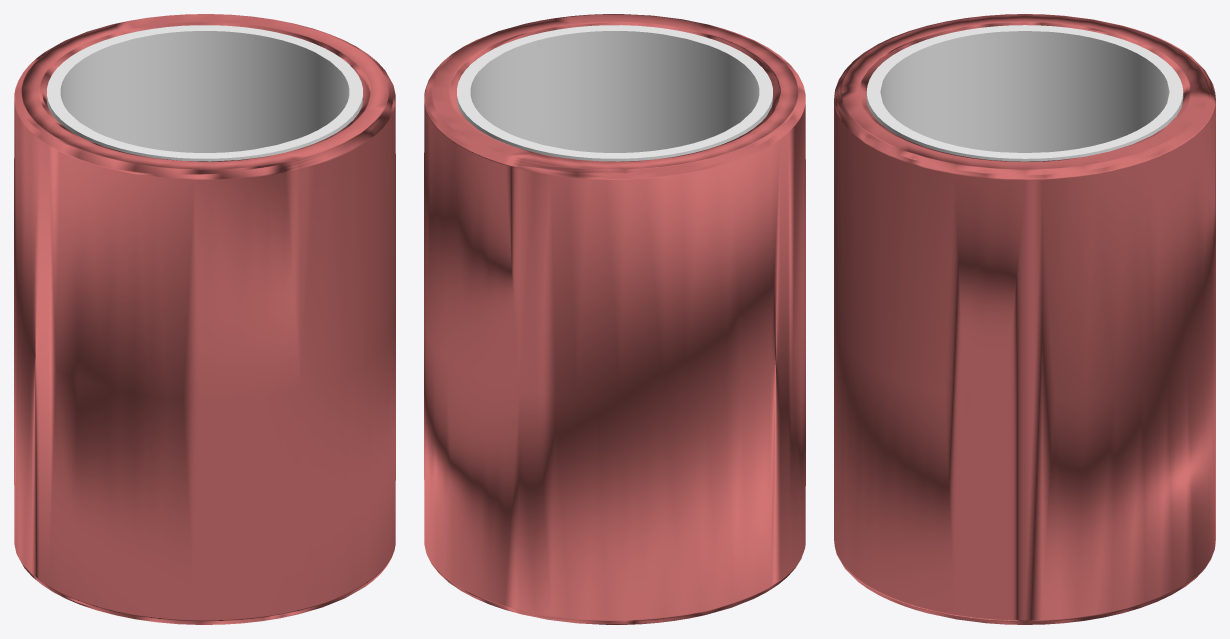
3 renders of one model, left to right at view 1: azimuth 30°, elevation 25°; view 2: azimuth 150°, elevation 25°; view 3: azimuth 270°, elevation 25°, orthographic.
Visible parts, largest first — view 1: Mid_cyl_M_out, Mid_cyl_M_in; view 2: Mid_cyl_M_out, Mid_cyl_M_in; view 3: Mid_cyl_M_out, Mid_cyl_M_in.
Boxes of the visible parts, box(x1,y1,x2,y2) form: Mid_cyl_M_out: box(14, 14, 395, 624); Mid_cyl_M_in: box(47, 25, 362, 161); Mid_cyl_M_out: box(424, 14, 805, 624); Mid_cyl_M_in: box(457, 25, 772, 161); Mid_cyl_M_out: box(834, 14, 1215, 624); Mid_cyl_M_in: box(866, 25, 1183, 161).
Bounding box in the file's own units: 70 × 92 × 70.
